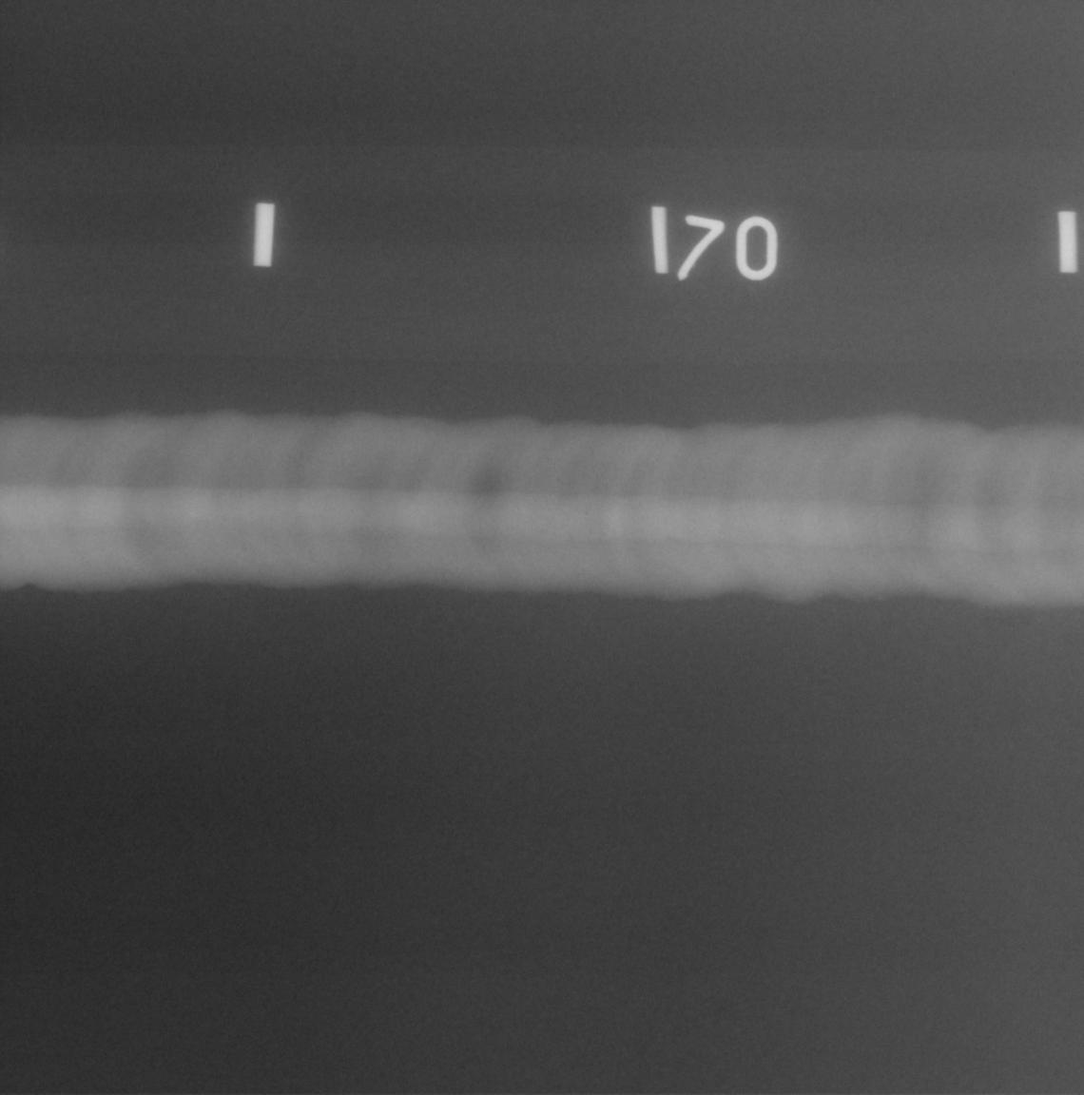Pore/Porosity: (584, 509, 590, 516), (70, 512, 77, 515)
